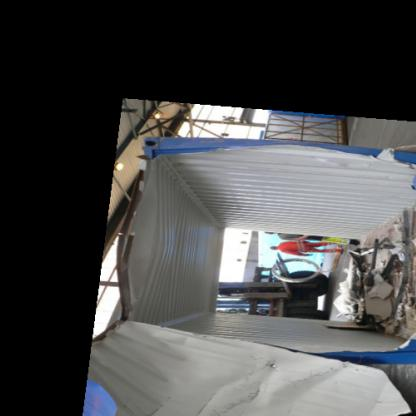Damage: (89, 124, 415, 368)
